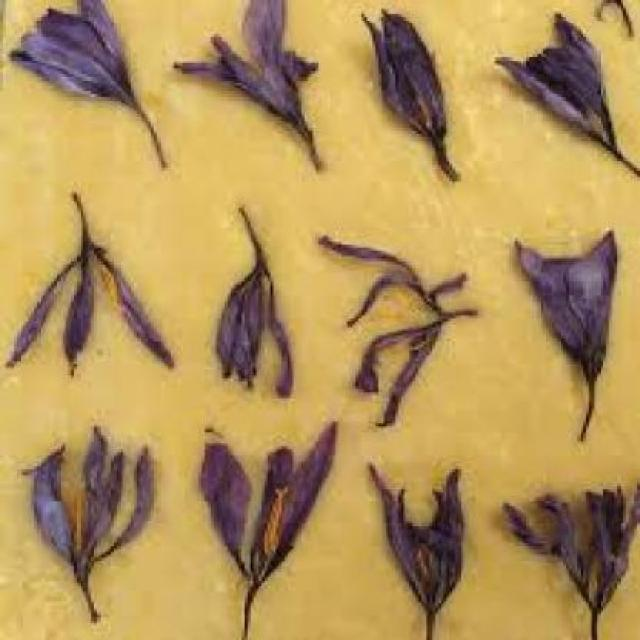Flower: (320, 228, 480, 422), (12, 216, 176, 376), (198, 427, 336, 601), (170, 0, 324, 137), (32, 428, 154, 592), (492, 12, 628, 157), (503, 487, 640, 622), (14, 0, 151, 125), (357, 2, 466, 158), (518, 239, 627, 390), (366, 461, 465, 621), (208, 226, 297, 400)
